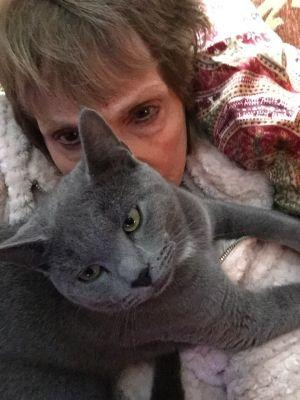rblue: (1, 105, 200, 328)
